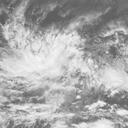cyclone: (25, 38, 89, 95)
